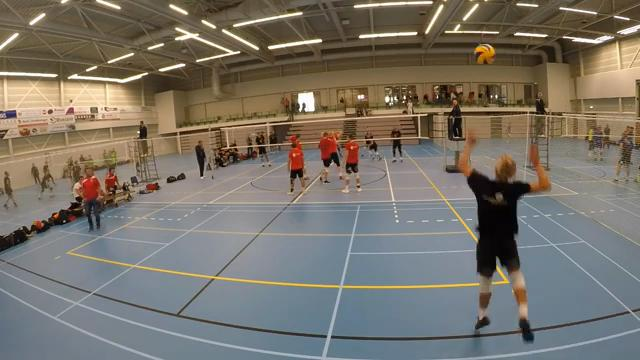Player: (318, 132, 341, 183), (342, 134, 361, 193), (287, 142, 306, 194), (255, 132, 270, 166), (391, 127, 402, 162), (362, 129, 372, 158), (332, 131, 342, 158), (369, 139, 380, 160), (290, 135, 301, 150), (507, 122, 511, 141)
Serve: (453, 128, 553, 350)
ball: (475, 44, 495, 65)
